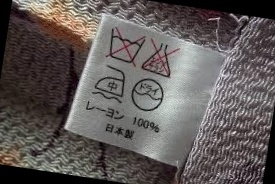DN_bleach: (143, 39, 181, 78)
DN_wash: (103, 27, 147, 66)
dry_clean: (127, 76, 167, 115)
iron: (90, 62, 130, 105)
